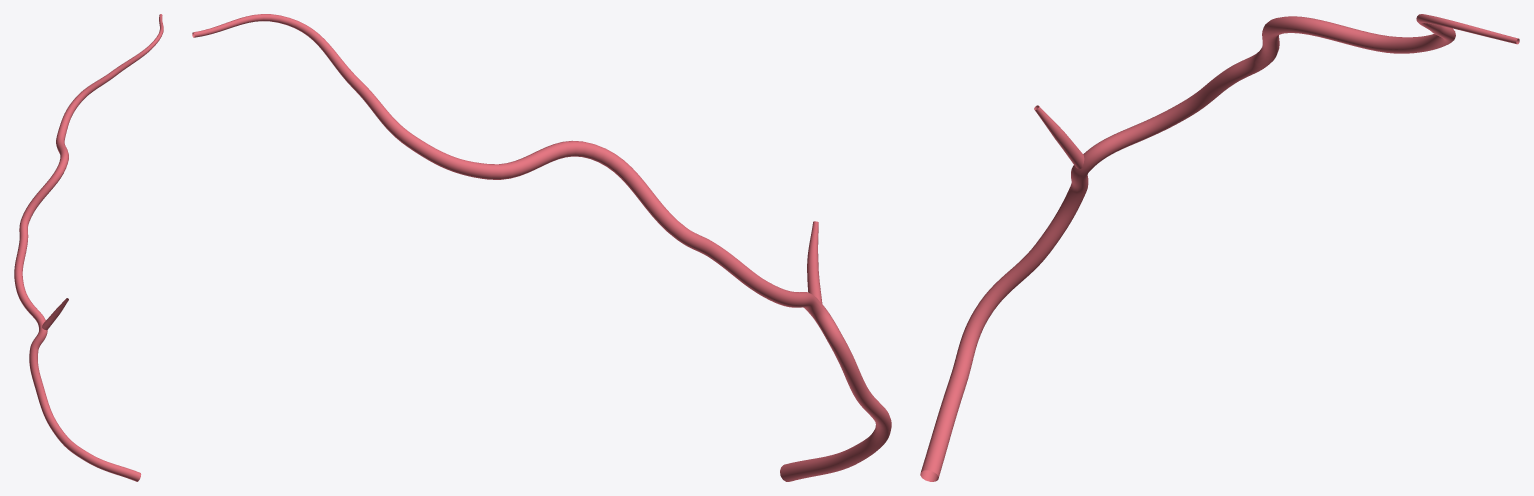
3 renders of one model, left to right at view 1: azimuth 30°, elevation 25°; view 2: azimuth 150°, elevation 25°; view 3: azimuth 270°, elevation 25°, orthographic. The views are drawn at different scales.
Parts seen in each view (by area): view 1: ZA_81a0f5c05e5c7c88; view 2: ZA_81a0f5c05e5c7c88; view 3: ZA_81a0f5c05e5c7c88.
Boxes of the visible parts, <box> form: ZA_81a0f5c05e5c7c88: <box>14,14,163,481</box>; ZA_81a0f5c05e5c7c88: <box>192,14,891,481</box>; ZA_81a0f5c05e5c7c88: <box>920,14,1519,481</box>.
Size of the model in its own units: 0.0461 by 0.0558 by 0.0495.
